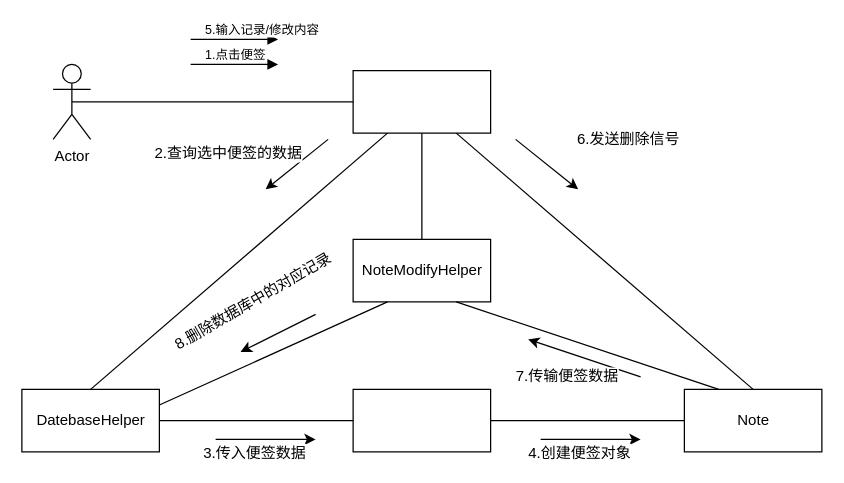
The diagram is 844 pixels wide and 483 high, and some of its shapes have lost their labels. The shapes that lost their labels are listed below. From the top down, each one's box as (x1, y1, x2, y2) in pixels, then its label:
(352, 69, 491, 133): NoteUI
(352, 388, 491, 452): NoteCreateHelper
